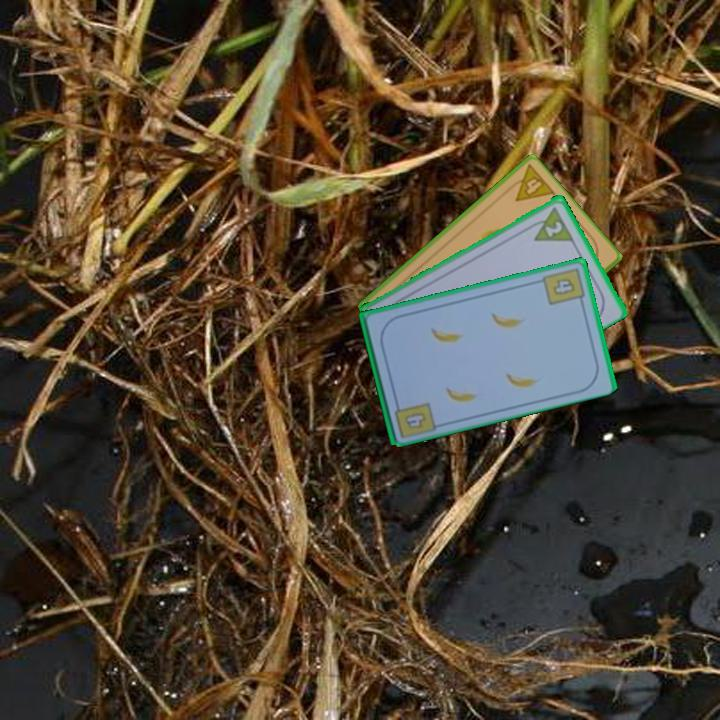2p: (524, 202, 576, 244)
4b: (539, 264, 587, 308), (401, 408, 429, 431)
4p: (502, 161, 558, 204)
